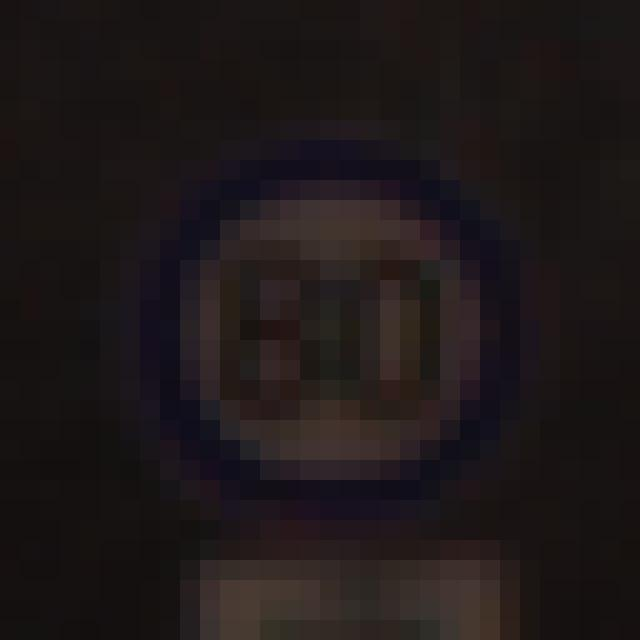SPEED-LIMIT-80: (156, 167, 504, 496)
